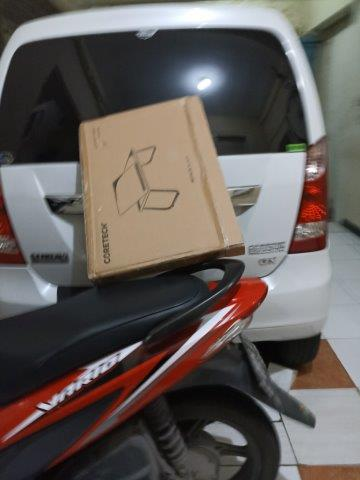kardus: (81, 99, 243, 278)
